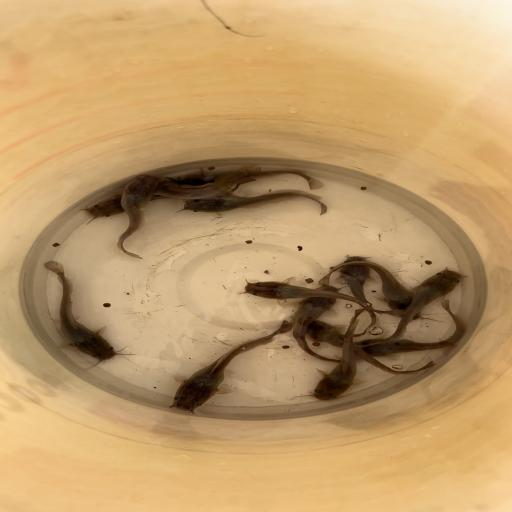lele: (168, 320, 294, 412), (39, 259, 119, 363), (240, 280, 378, 338), (305, 319, 436, 375), (378, 268, 462, 346), (317, 260, 423, 320), (357, 299, 466, 356), (308, 307, 367, 401), (290, 284, 348, 365), (110, 174, 161, 259), (147, 164, 260, 200), (181, 190, 329, 216), (171, 168, 326, 190), (340, 254, 378, 338), (81, 187, 160, 225)
